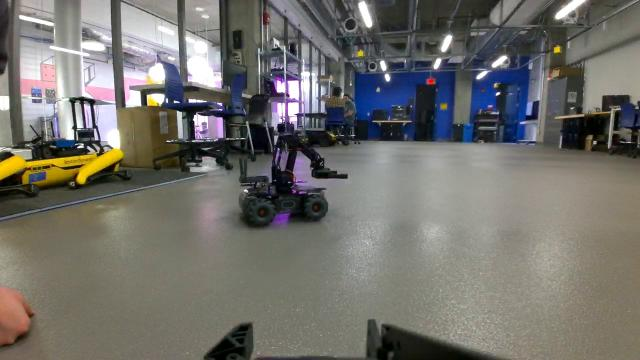robot: (234, 130, 350, 229)
